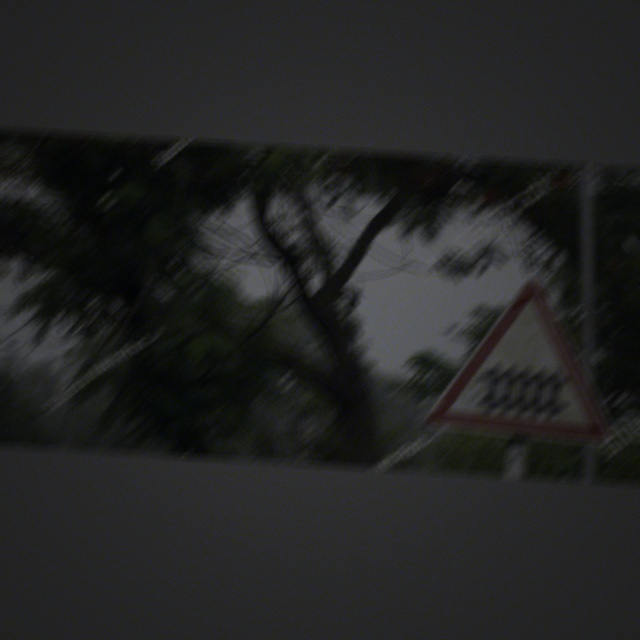Guarded_Level_Crossing: (428, 273, 616, 442)
